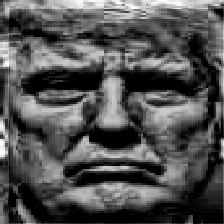angry: (9, 9, 224, 223)
